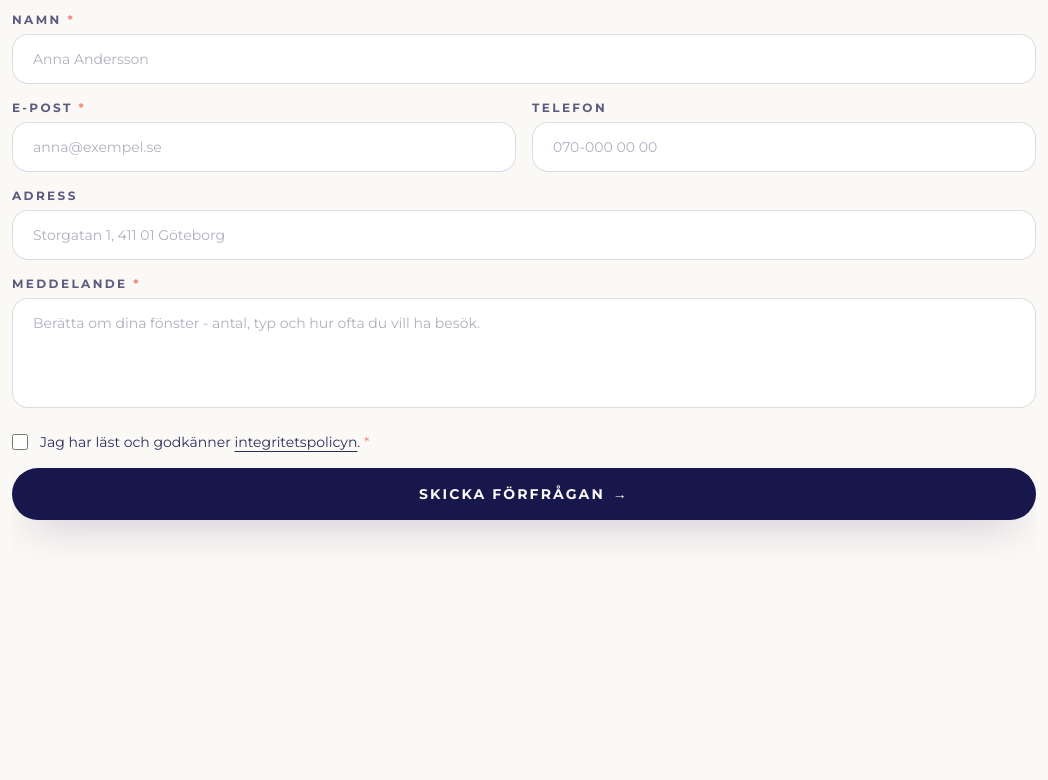
it: ContactForm › shows validation errors when submitting empty form
This screenshot has width=1048, height=780.
Click the button "Skicka förfrågan →". click: (524, 494)
box: [12, 468, 1036, 520]
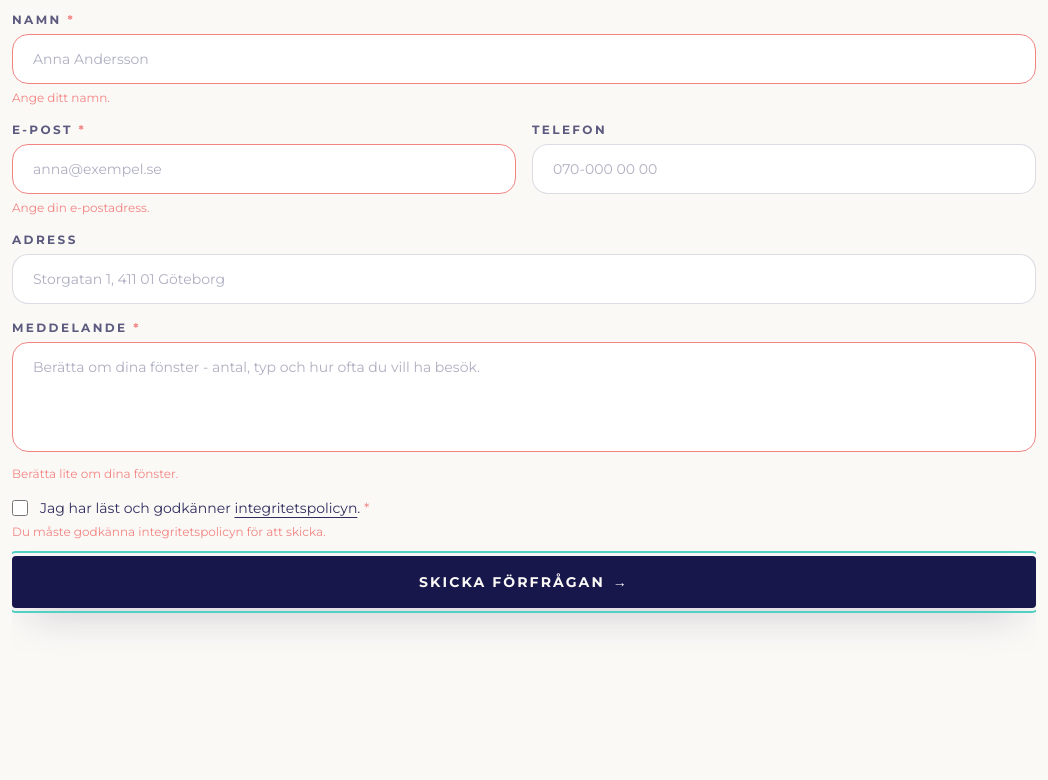
Check: the text "Ange ditt namn." is shown, box [12, 90, 110, 105]
Check: the text "Ange din e-postadress." is shown, box [12, 200, 149, 215]
Check: the text "Berätta lite om dina fönster." is shown, box [12, 466, 178, 481]
